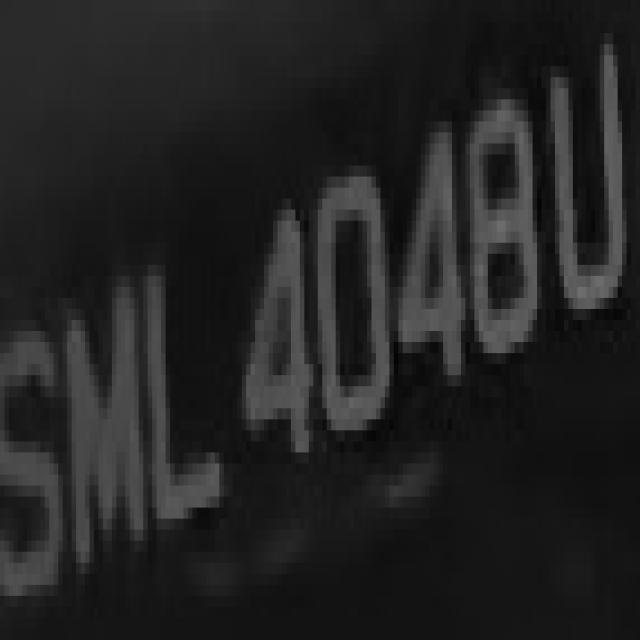0: (300, 165, 389, 452)
4: (228, 176, 318, 464), (389, 143, 479, 420)
8: (461, 110, 542, 387)
L: (139, 209, 219, 552)
M: (67, 265, 148, 607)
S: (0, 298, 63, 607)
U: (537, 44, 640, 342)
